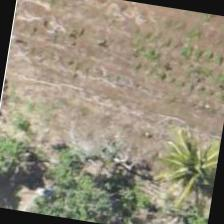Kelapa_Sawit: (128, 100, 223, 203)
